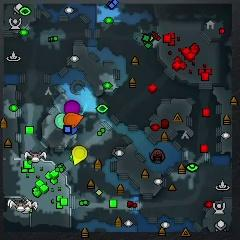p1: (68, 127, 79, 135)
p2: (55, 113, 66, 129)
p3: (64, 100, 81, 114)
p4: (72, 146, 87, 165)
p5: (63, 112, 84, 127)
